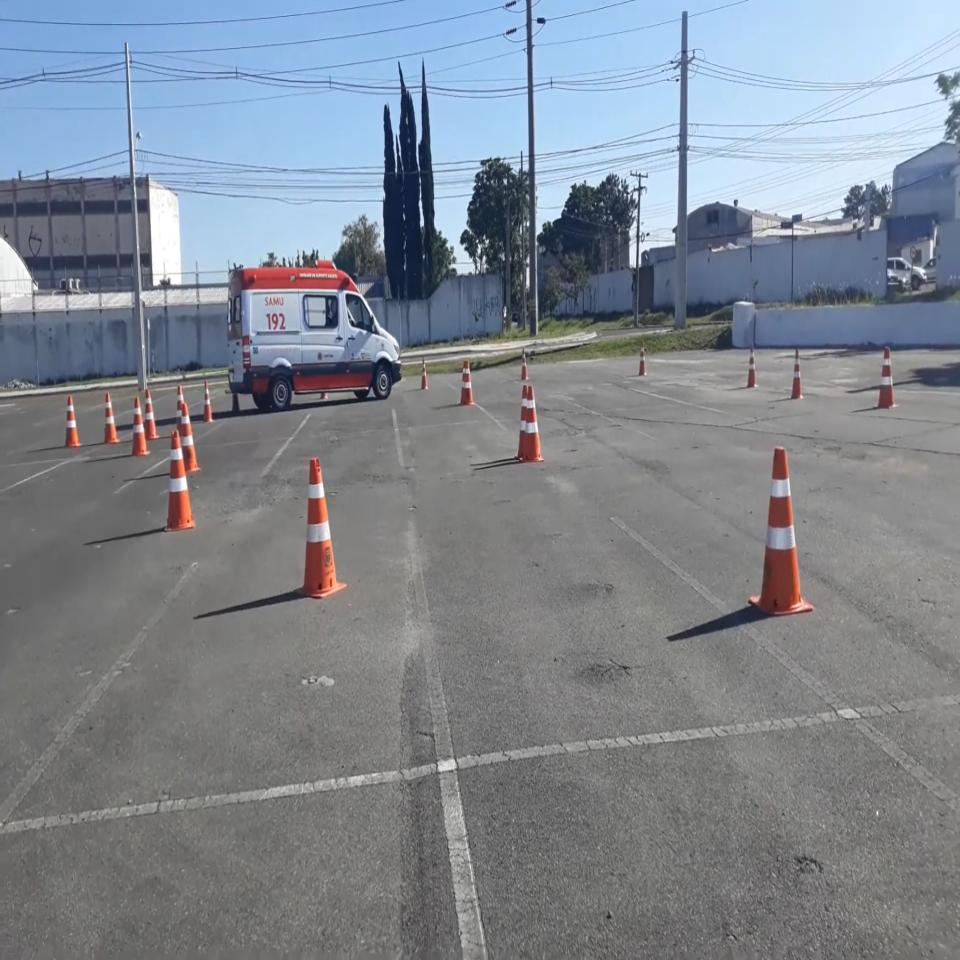bombeiro: (225, 255, 405, 409)
